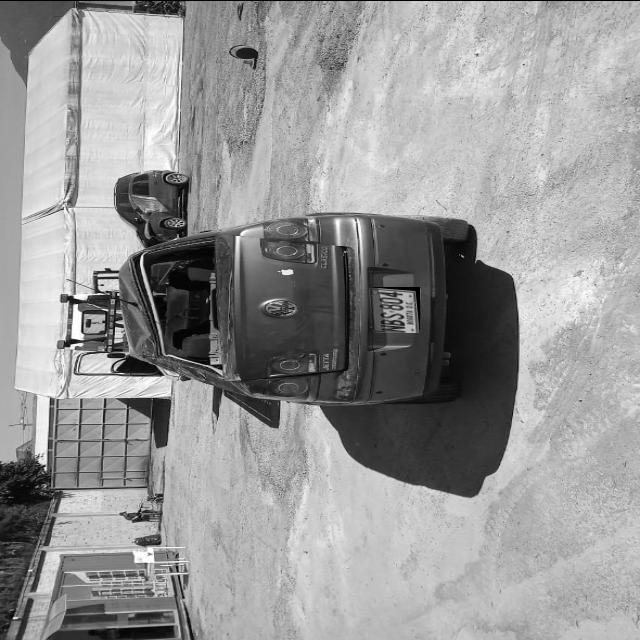plate: (369, 286, 420, 332)
